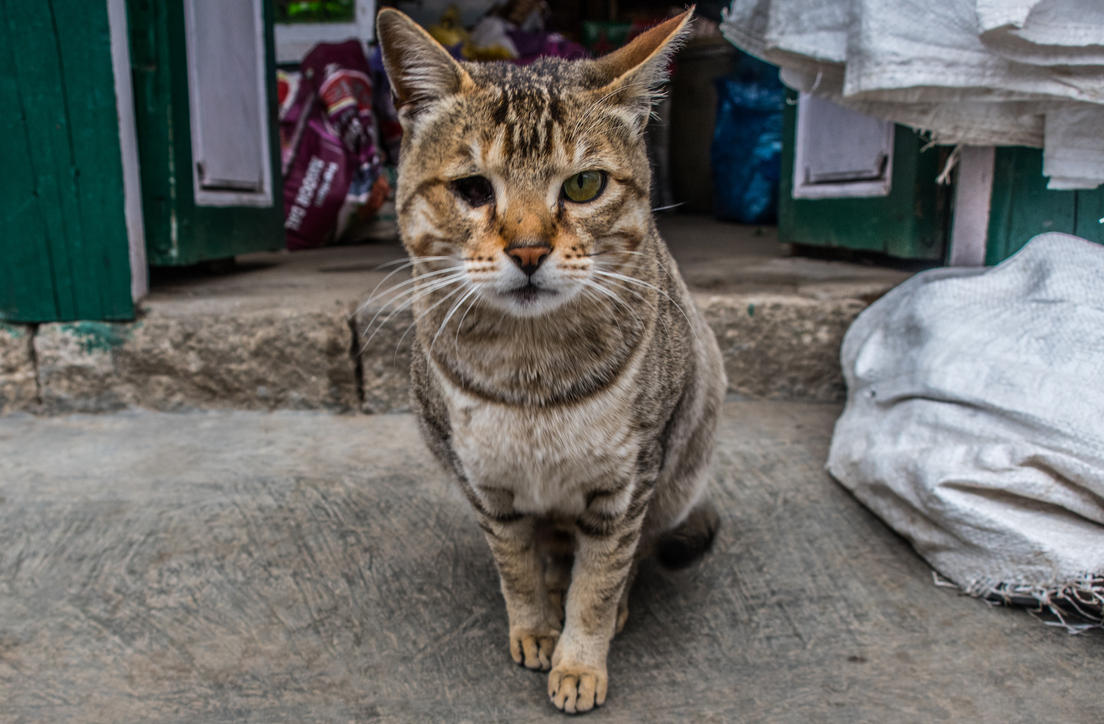cat: (356, 1, 744, 713)
